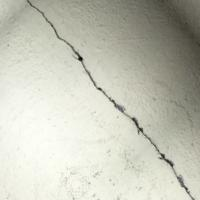crack: (19, 0, 199, 199)
